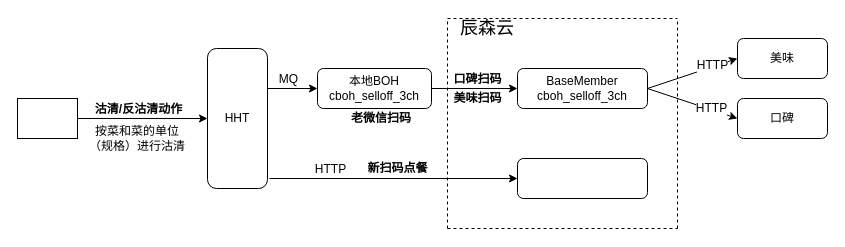
Image size: 845x247. Some labels were removed from this diagram. Each missing label, with the centre of its shape:
"OpenApi ts_sku_selloff" goes at (x=582, y=178).
"门店POS" goes at (x=47, y=118).
